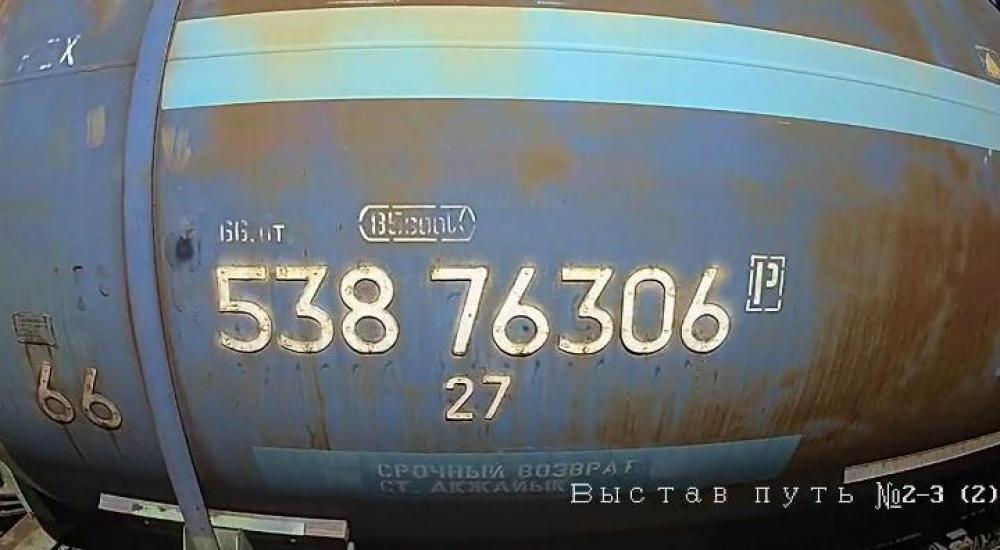Wagon-number: (211, 257, 735, 359)
